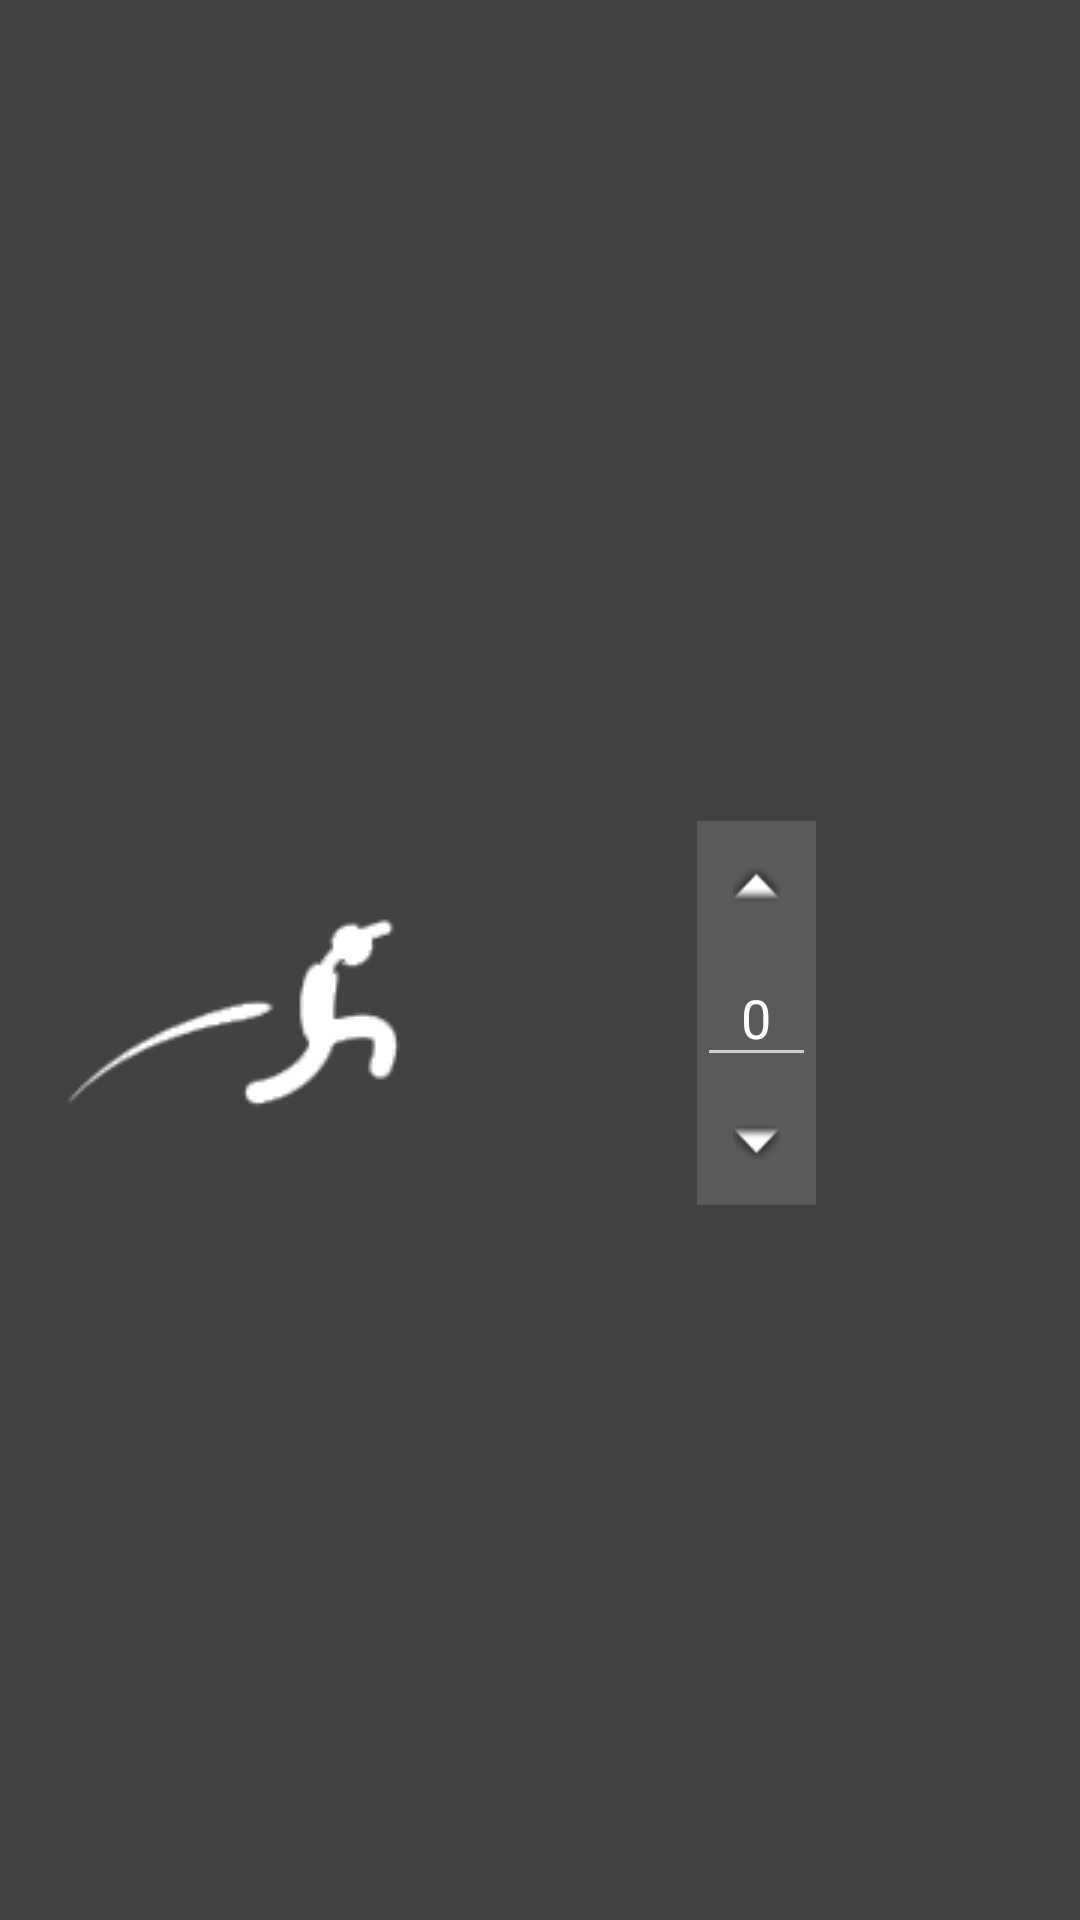

Icons on this 1080×1920 Android screen, each with the point to tap as (x=x, y=y):
arrow down float: (x=756, y=1141)
arrow up float: (x=756, y=885)
attribute agility: (x=233, y=1012)
